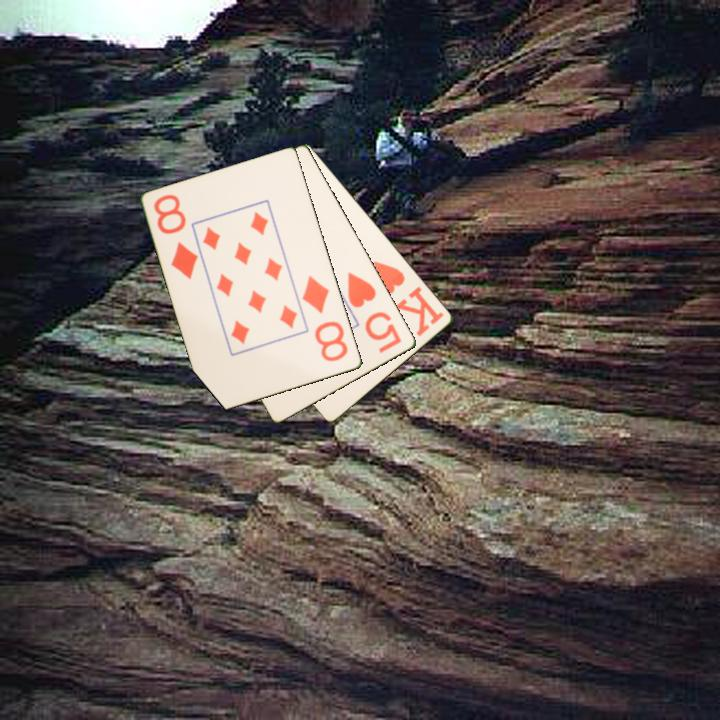5h: (344, 268, 405, 356)
8d: (299, 272, 351, 365), (150, 191, 201, 283)
Kh: (370, 257, 447, 340)
